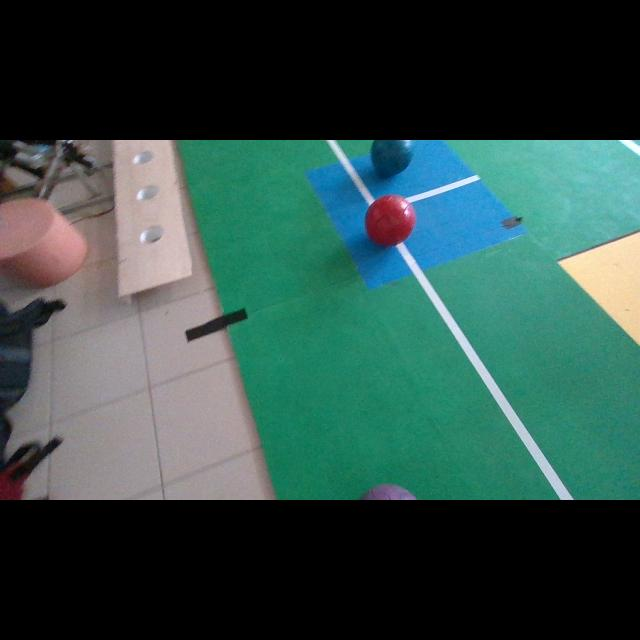B: (370, 140, 412, 178)
P: (360, 484, 416, 499)
R: (365, 195, 416, 246)
